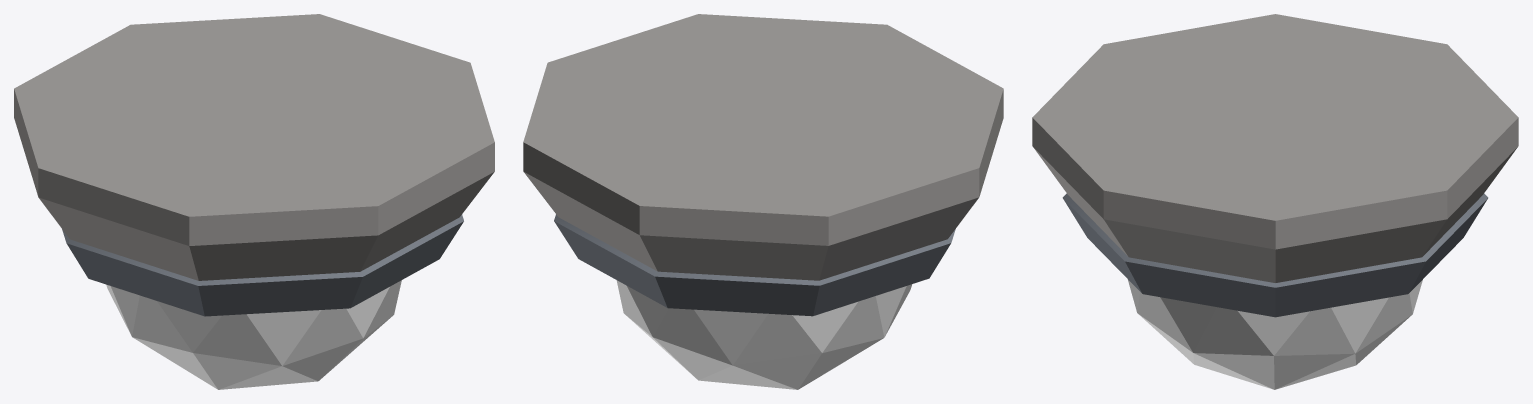
File: SM_Prop_CeilingLight3.fbx
The picture shows the model from 3 angles, left to right: view 1: azimuth 30°, elevation 25°; view 2: azimuth 150°, elevation 25°; view 3: azimuth 270°, elevation 25°; orthographic projection.
Parts seen in each view (by area): view 1: SM_Prop_CeilingLight3; view 2: SM_Prop_CeilingLight3; view 3: SM_Prop_CeilingLight3.
Part boxes in pixels (x1=…): SM_Prop_CeilingLight3: x1=14, y1=14, x2=494, y2=389; SM_Prop_CeilingLight3: x1=523, y1=14, x2=1003, y2=389; SM_Prop_CeilingLight3: x1=1032, y1=14, x2=1518, y2=389.
Size of the model in its own units: 56.88 by 33.15 by 56.49.
Materials: 2 (2 with a texture image).
